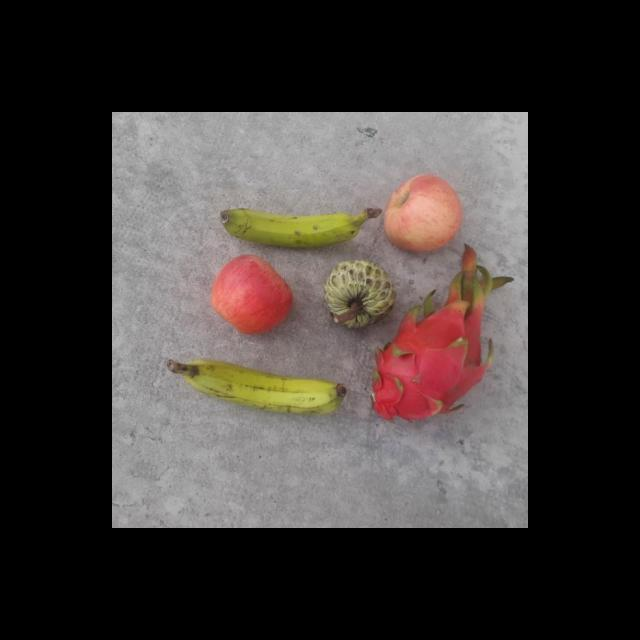Sakya fruit: (321, 256, 398, 332)
apple: (380, 171, 464, 255), (210, 254, 290, 339)
banana: (186, 356, 350, 418), (218, 200, 366, 250)
pitaya: (366, 290, 481, 430)
